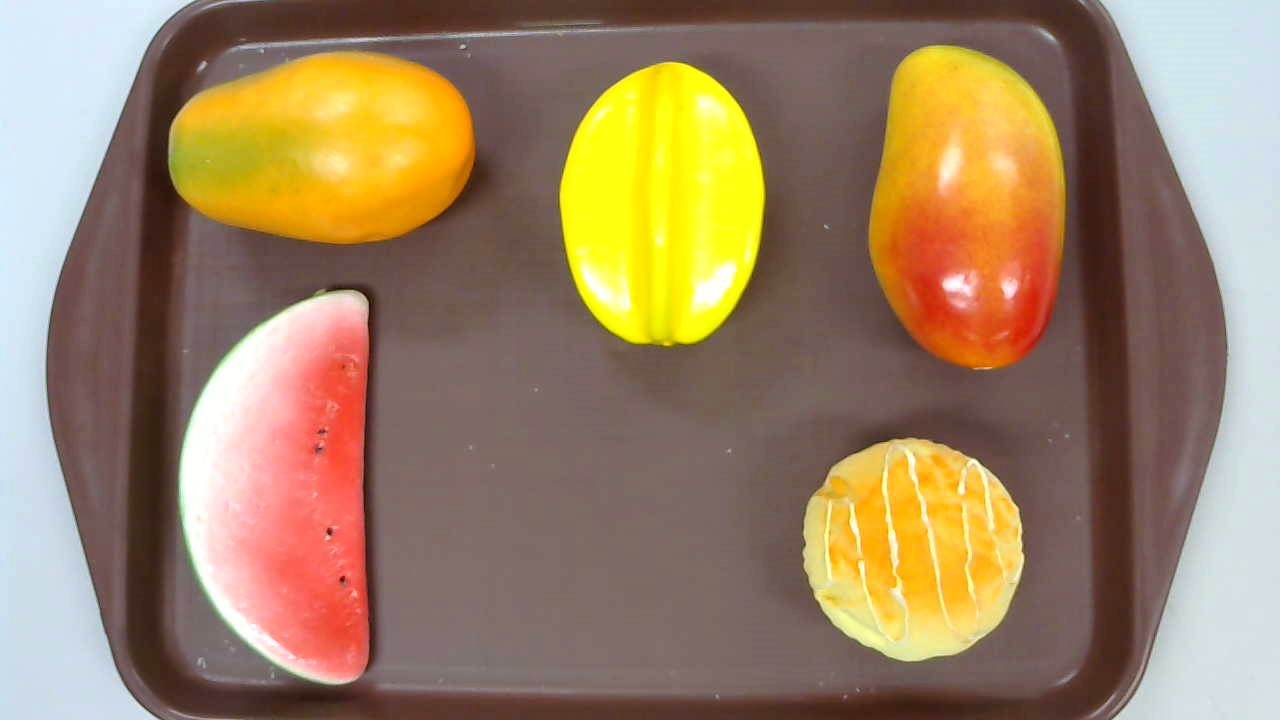cupcake: (803, 437, 1024, 661)
papya: (167, 51, 476, 245)
red mango: (867, 44, 1066, 371)
star fruit: (560, 62, 764, 347)
water melon: (177, 289, 370, 685)
